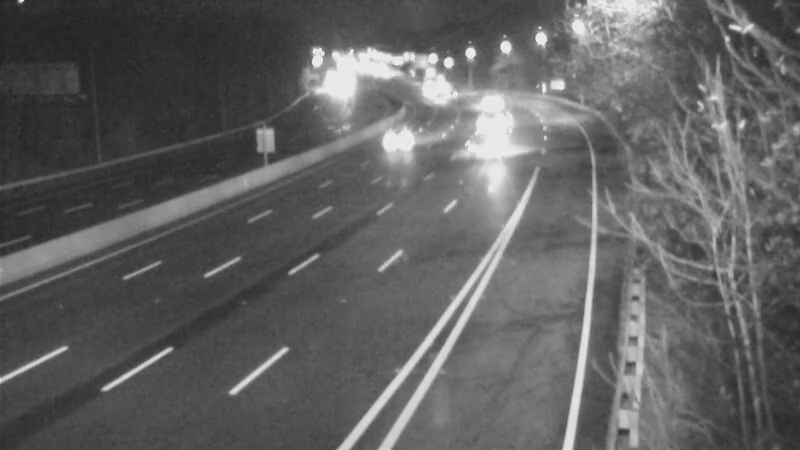vehicle: (414, 78, 464, 128), (451, 70, 501, 120), (459, 97, 509, 147), (372, 107, 422, 157), (455, 120, 505, 170)
